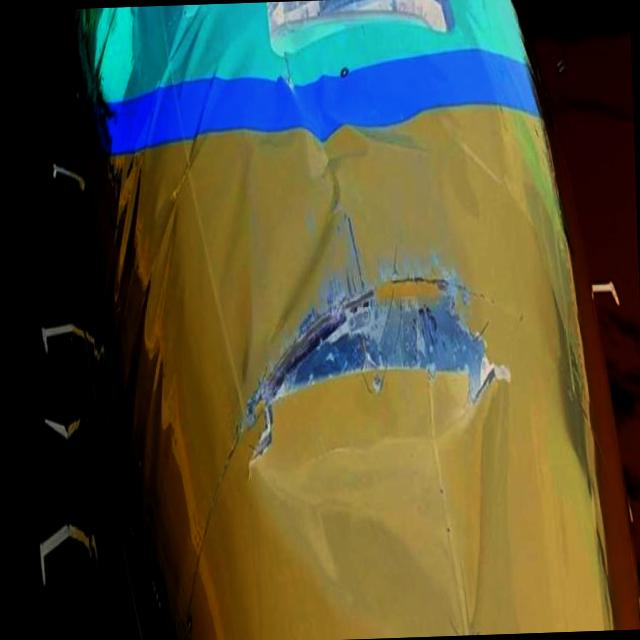crack: (237, 248, 506, 482)
